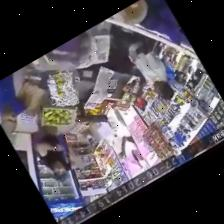person: (110, 25, 173, 99), (31, 116, 73, 180), (139, 0, 189, 45), (107, 109, 144, 166), (44, 31, 91, 68), (0, 74, 29, 132), (112, 0, 146, 23)
